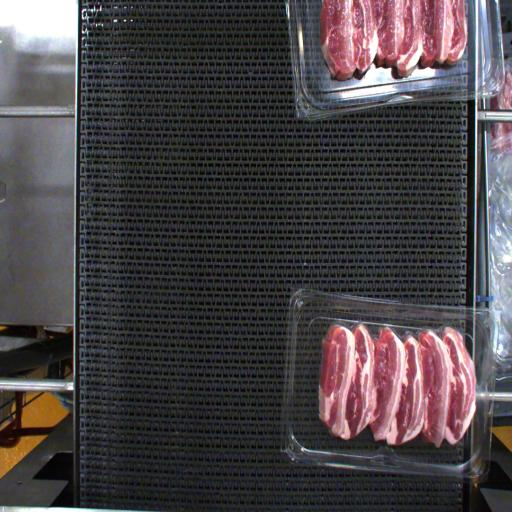unsealed: (321, 317, 464, 366)
